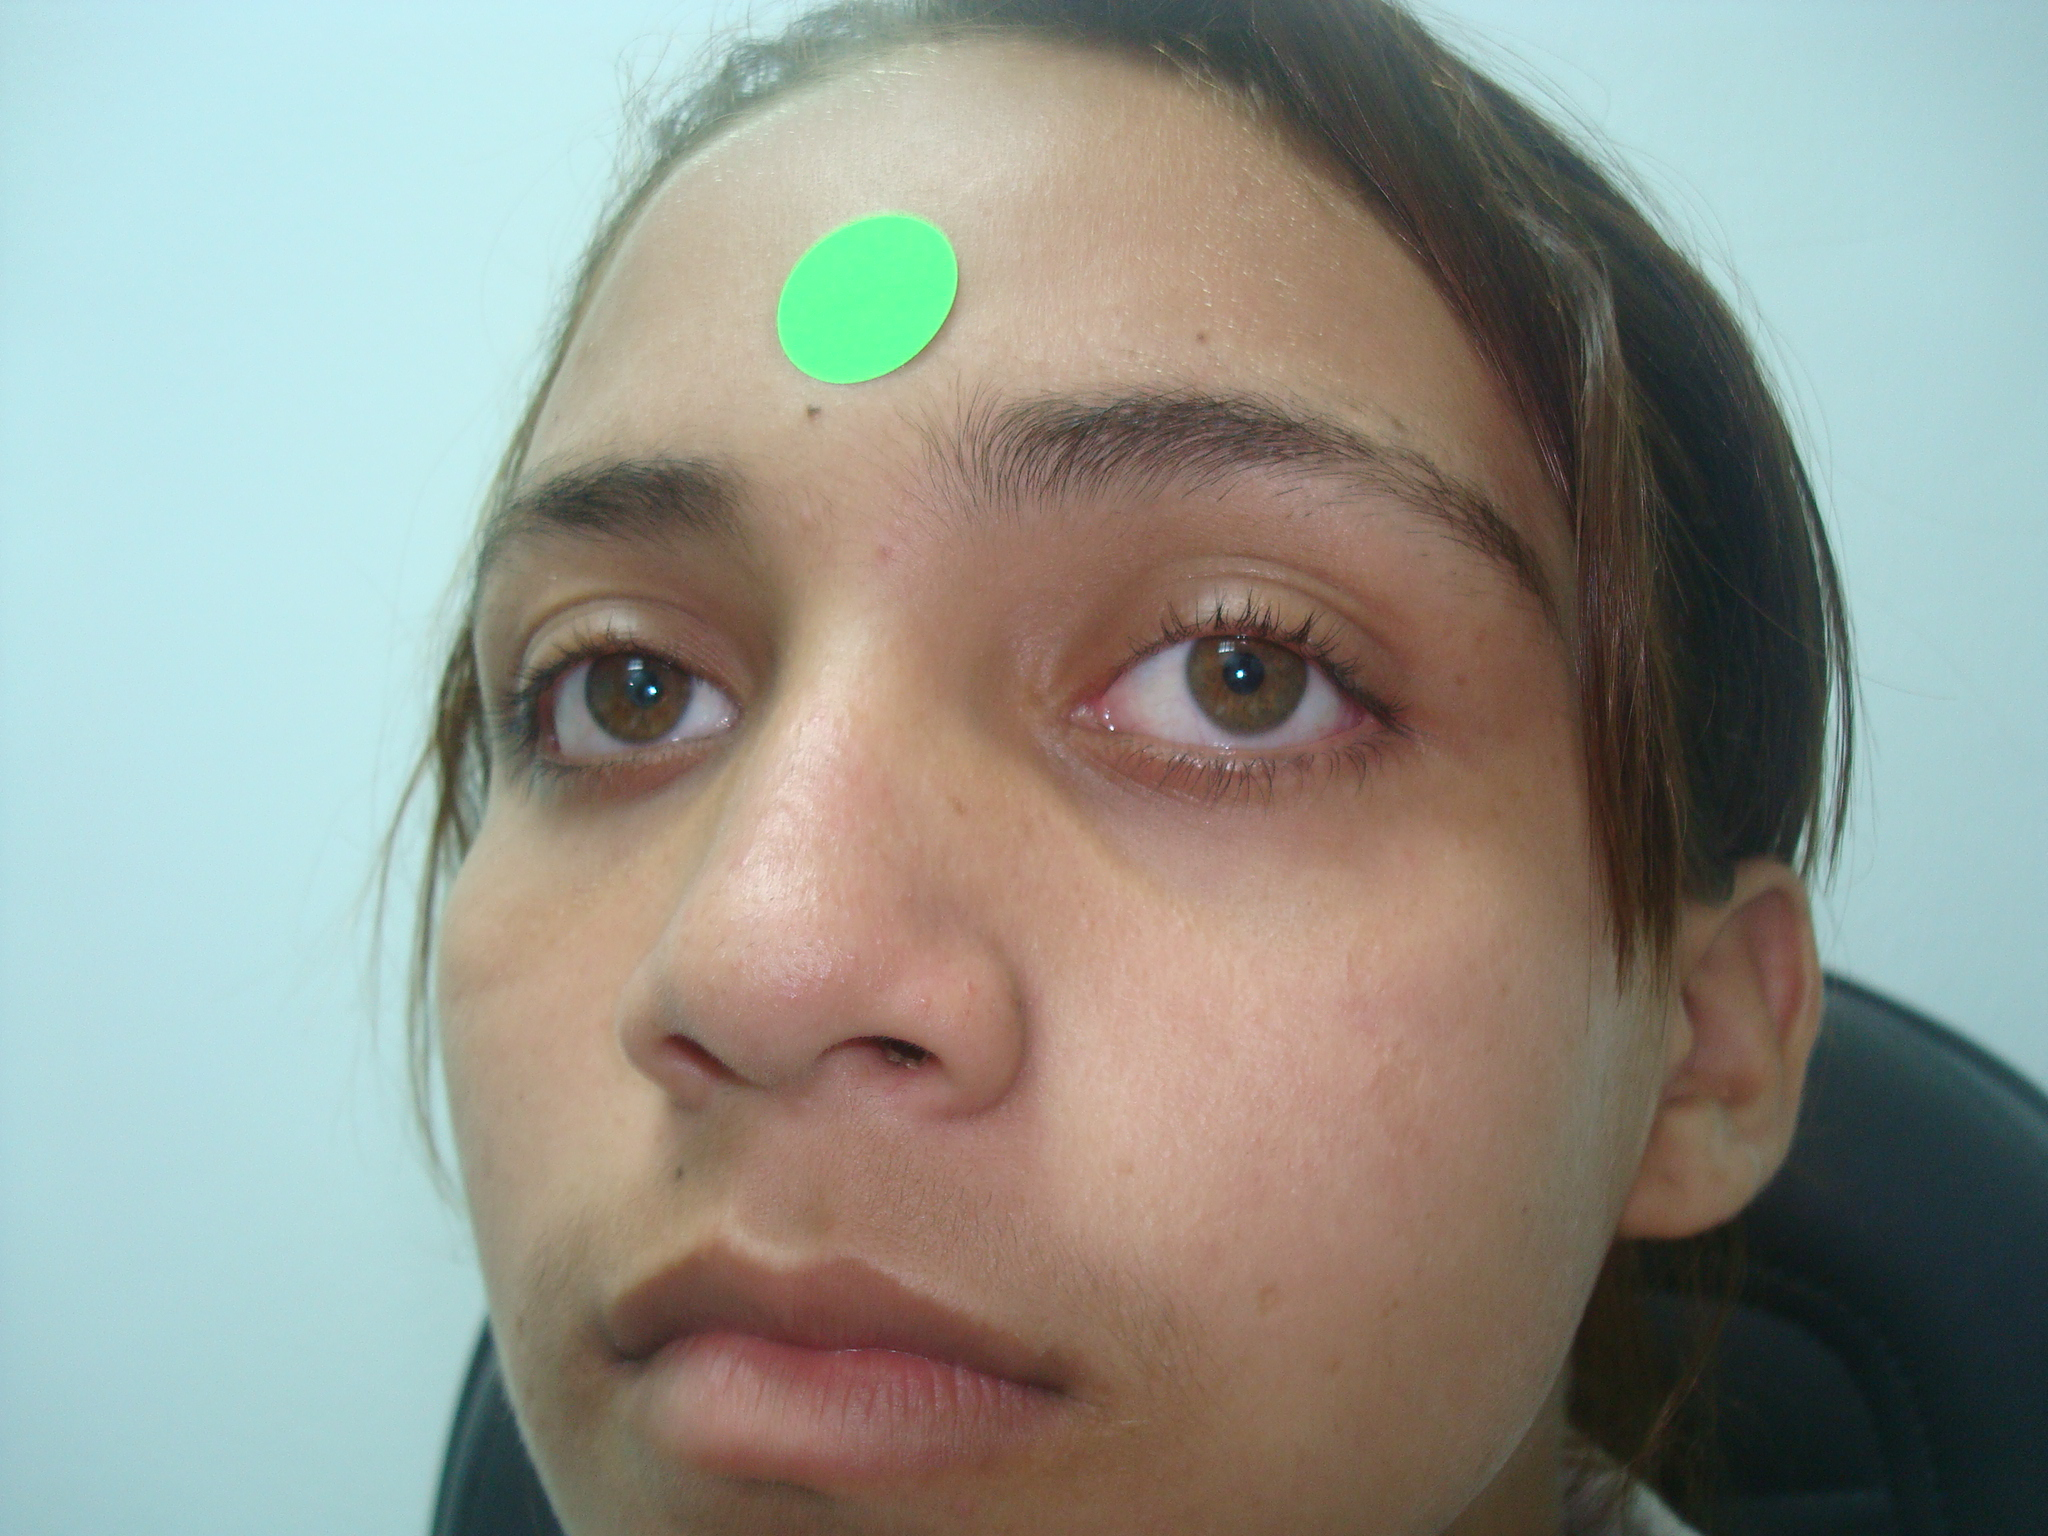flash: (1232, 665, 1248, 682), (643, 682, 660, 699)
limbo: (1185, 610, 1303, 734), (584, 636, 701, 741)
